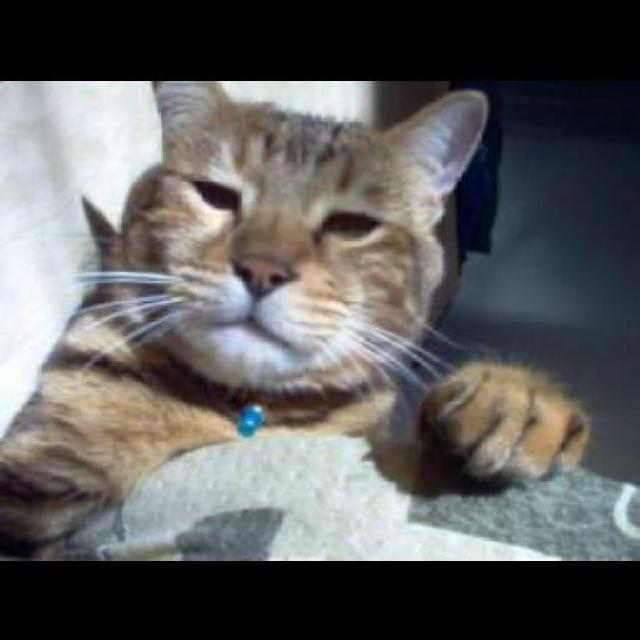unauthorized: (0, 76, 592, 558)
